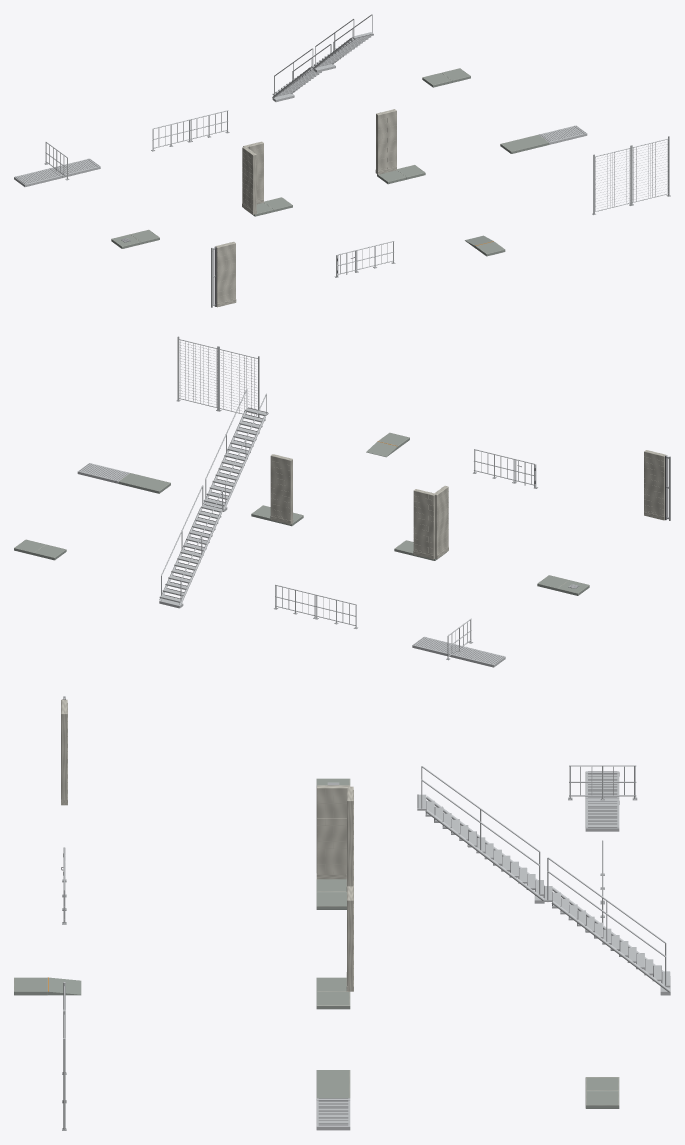
File: prison-complex-builder-prison-connector-cases-2-9d7296be__25728.glb
3 views of the same model, one above another, from view 1: azimuth 30°, elevation 25°; view 2: azimuth 150°, elevation 25°; view 3: azimuth 270°, elevation 25° (orthographic). The views are drawn at different scales.
Visible parts, largest first — view 1: 010-corridor-corner/2, 012-corridor-t/2, 017-concrete-wall-straight/0, 022-perimeter-fence-straight/0, 023-perimeter-fence-straight/0, 000-walkway-end/0, 005-cell-block-stair/1, 004-cell-block-stair/1, 014-stair-landing/0, 015-mezzanine-walkway/0, 001-mezzanine-walkway/0; view 2: 010-corridor-corner/2, 004-cell-block-stair/1, 005-cell-block-stair/1, 012-corridor-t/2, 017-concrete-wall-straight/0, 023-perimeter-fence-straight/0, 022-perimeter-fence-straight/0, 000-walkway-end/0, 004-cell-block-stair/0, 005-cell-block-stair/0, 014-stair-landing/0, 015-mezzanine-walkway/0 (+2 smaller); view 3: 010-corridor-corner/2, 004-cell-block-stair/1, 005-cell-block-stair/1, 000-walkway-end/0, 004-cell-block-stair/0, 015-mezzanine-walkway/0, 005-cell-block-stair/0, 001-mezzanine-walkway/0, 014-stair-landing/0, 012-corridor-t/2, 017-concrete-wall-straight/0, 010-corridor-corner/1 (+1 smaller).
Part boxes in pixels (x1,y1,x2,y2): 010-corridor-corner/2: (242,141,263,211); 012-corridor-t/2: (376,109,396,170); 017-concrete-wall-straight/0: (215,241,235,306); 022-perimeter-fence-straight/0: (593,145,631,214); 023-perimeter-fence-straight/0: (631,136,669,204); 000-walkway-end/0: (14,142,67,186); 005-cell-block-stair/1: (314,14,373,67); 004-cell-block-stair/1: (272,44,330,96); 014-stair-landing/0: (500,135,549,153); 015-mezzanine-walkway/0: (539,125,587,144); 001-mezzanine-walkway/0: (52,158,100,177); 010-corridor-corner/2: (413,485,448,558); 004-cell-block-stair/1: (159,485,223,602); 005-cell-block-stair/1: (203,389,268,506); 012-corridor-t/2: (270,454,292,520); 017-concrete-wall-straight/0: (644,450,666,519); 023-perimeter-fence-straight/0: (177,336,218,410); 022-perimeter-fence-straight/0: (218,346,259,417); 000-walkway-end/0: (448,618,505,667); 004-cell-block-stair/0: (159,486,222,608); 005-cell-block-stair/0: (203,390,266,511); 014-stair-landing/0: (118,473,170,493); 015-mezzanine-walkway/0: (77,463,129,483); 010-corridor-corner/2: (316,785,353,886); 004-cell-block-stair/1: (544,857,670,987); 005-cell-block-stair/1: (417,766,543,895); 000-walkway-end/0: (569,765,636,799); 004-cell-block-stair/0: (547,857,670,995); 015-mezzanine-walkway/0: (316,1098,350,1130); 005-cell-block-stair/0: (421,766,544,903); 001-mezzanine-walkway/0: (585,800,619,831); 014-stair-landing/0: (316,1070,350,1098); 012-corridor-t/2: (347,886,353,991); 017-concrete-wall-straight/0: (61,699,67,799); 010-corridor-corner/1: (316,788,353,891).
Size of the model in its own units: 25.04 by 7.07 by 19.53.
5 materials, 1 textured.
